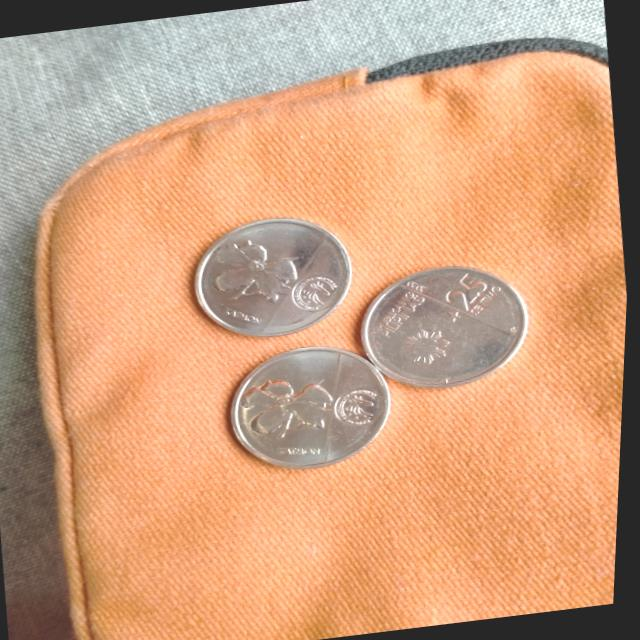25Cent_New_Back: (201, 233, 307, 317), (239, 368, 341, 442)
25Cent_New_Front: (438, 267, 513, 321)
